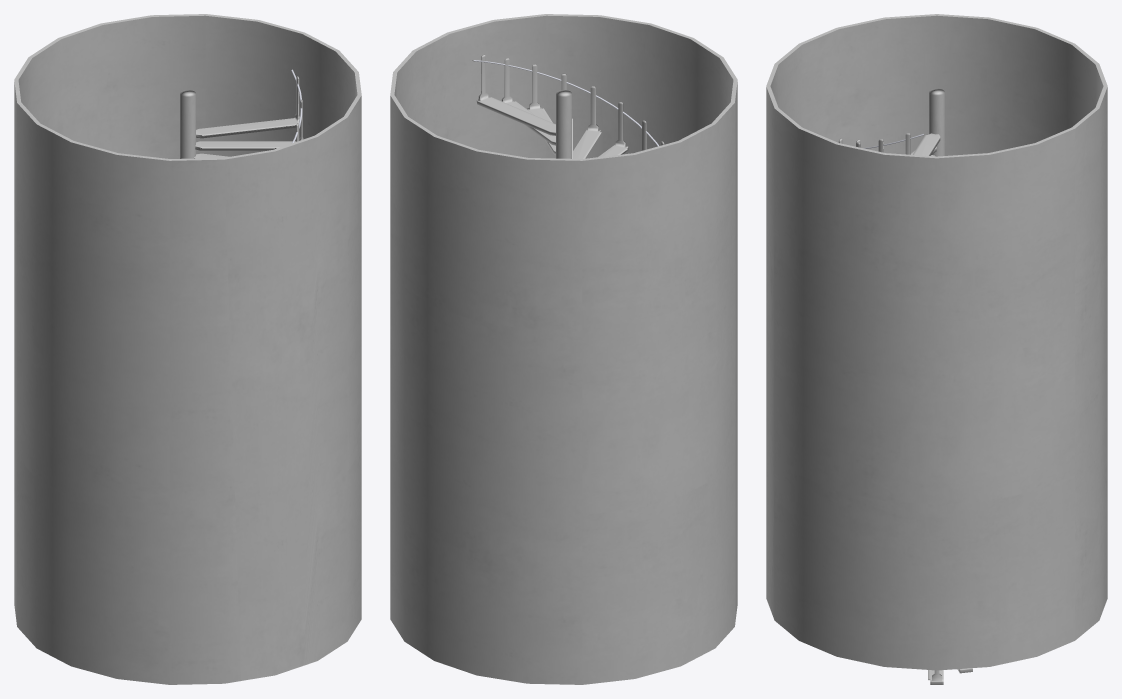
Rendered from SpiralStaircase2Stackable.fbx.
3 views of the same model, side by side, from view 1: azimuth 30°, elevation 25°; view 2: azimuth 150°, elevation 25°; view 3: azimuth 270°, elevation 25° (orthographic). The views are drawn at different scales.
Parts seen in each view (by area): view 1: polySurface14; view 2: polySurface14; view 3: polySurface14.
Part boxes in pixels (x1=…): polySurface14: x1=14, y1=14, x2=361, y2=684; polySurface14: x1=390, y1=14, x2=737, y2=684; polySurface14: x1=766, y1=14, x2=1107, y2=684.
Bounding box in the file's own units: 267 × 475 × 267.
